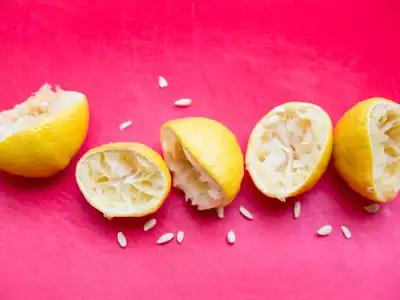organic: (245, 102, 332, 200), (0, 83, 88, 176), (160, 117, 243, 209), (76, 142, 171, 217), (333, 97, 399, 201)
